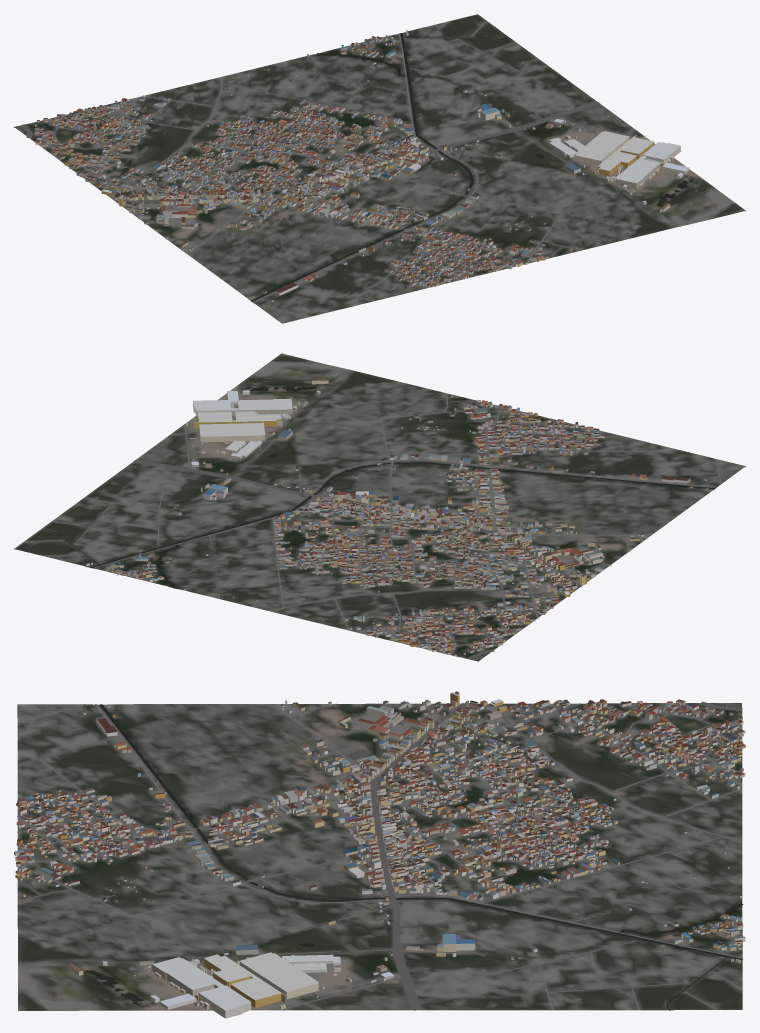
The picture shows the model from 3 angles, top to bottom: view 1: azimuth 30°, elevation 25°; view 2: azimuth 150°, elevation 25°; view 3: azimuth 270°, elevation 25°; orthographic projection. The views are drawn at different scales.
Parts seen in each view (by area): view 1: ground, buildings, roads, water; view 2: ground, buildings, roads, water; view 3: ground, buildings, roads, water.
Boxes of the visible parts, x1,y1,x2,y2 form: ground: (14,14,745,323); buildings: (34,30,689,302); roads: (21,21,641,316); water: (251,33,692,301); ground: (14,353,745,661); buildings: (86,379,707,656); roads: (23,393,721,659); water: (41,386,715,588); ground: (17,703,742,1010); buildings: (14,691,745,1018); roads: (17,701,742,1010); water: (86,704,743,1010).
Bounding box in the file's own units: 1445 × 30.07 × 1416.
